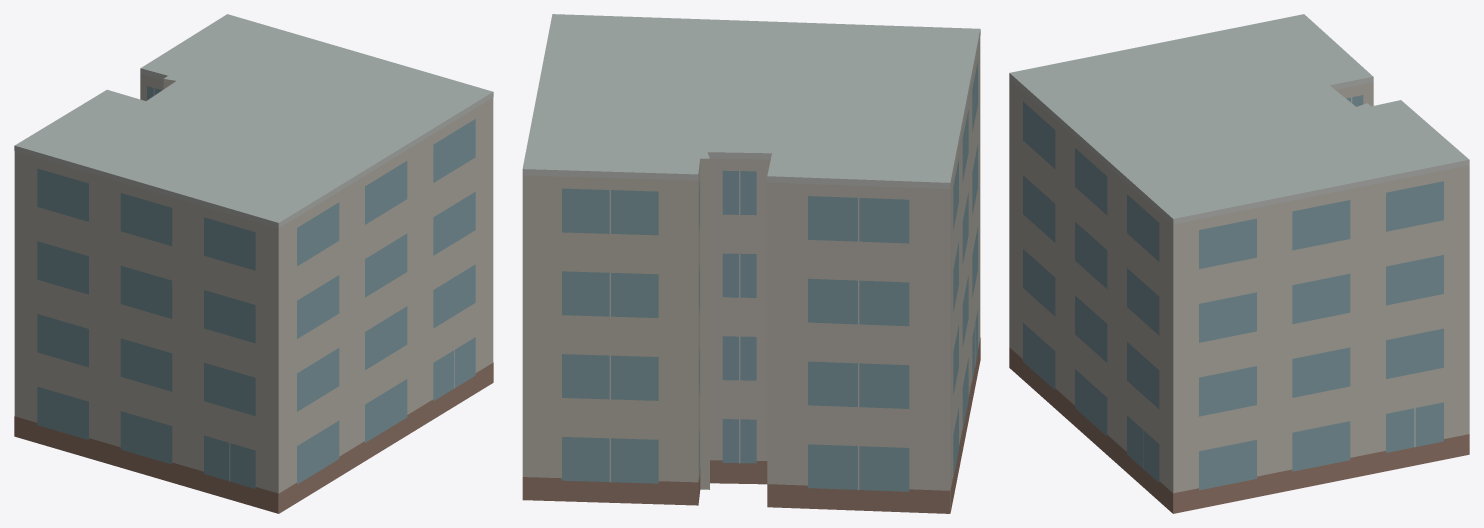
Rendered from survey-upis-32728509.glb.
3 renders of one model, left to right at view 1: azimuth 30°, elevation 25°; view 2: azimuth 150°, elevation 25°; view 3: azimuth 270°, elevation 25°, orthographic. The views are drawn at different scales.
Parts seen in each view (by area): view 1: survey-upis-32728509.tmp; view 2: survey-upis-32728509.tmp; view 3: survey-upis-32728509.tmp.
Part boxes in pixels (x1,y1,x2,y2): survey-upis-32728509.tmp: (14, 14, 493, 513); survey-upis-32728509.tmp: (522, 14, 980, 513); survey-upis-32728509.tmp: (1009, 14, 1469, 513).
Size of the model in its own units: 19.39 by 13 by 18.39.
